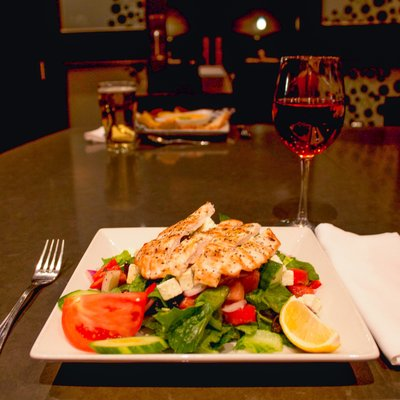taco: (279, 298, 341, 353)
